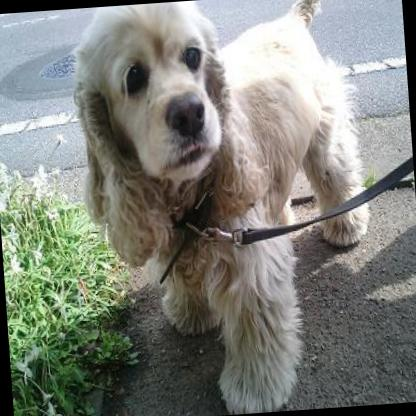cocker_spaniel: (64, 0, 389, 416)
